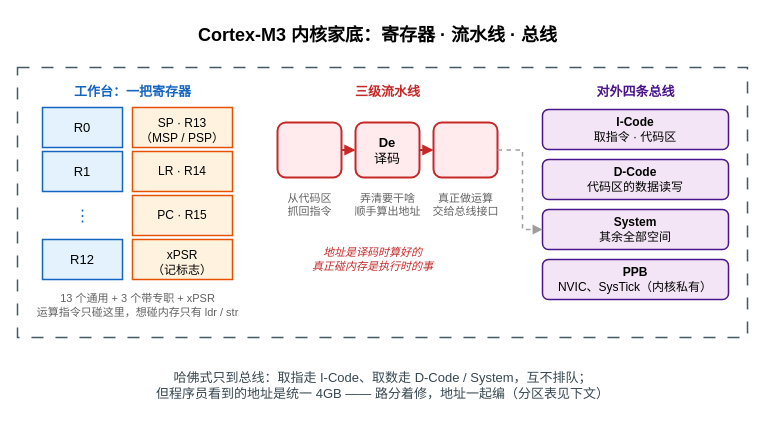
Image size: 766x430. Some labels were removed from this diagram. Here are the shapes that lost their labels. From the top down, the centre of each, then its label:
(x=309, y=149): Fe 取指
(x=465, y=149): Ex 执行
